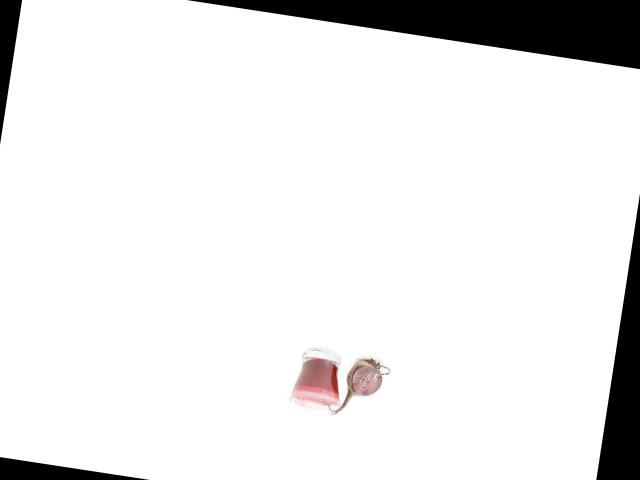beet: (319, 351, 391, 422)
